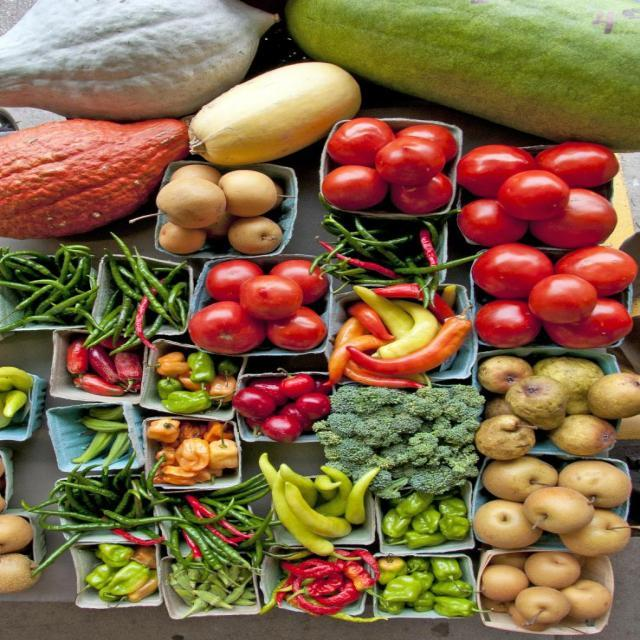Tomato: (532, 187, 624, 250), (547, 295, 632, 347), (472, 238, 564, 286), (552, 244, 640, 294), (457, 144, 537, 198), (532, 141, 621, 187), (188, 300, 265, 352), (500, 169, 572, 220), (324, 117, 396, 165), (269, 307, 343, 352), (321, 162, 389, 210), (477, 298, 539, 350), (532, 276, 600, 323), (467, 193, 525, 247), (394, 171, 456, 219), (239, 274, 301, 320), (373, 141, 439, 183), (204, 260, 264, 305), (268, 260, 332, 302), (397, 123, 461, 161)
